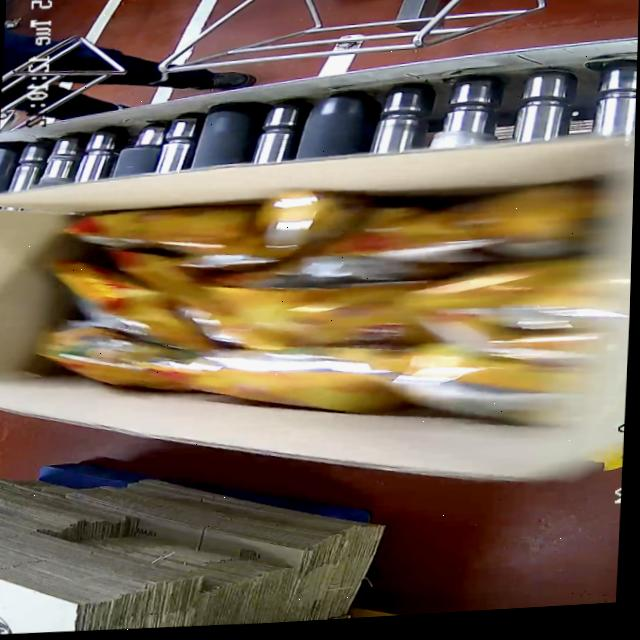FRENCH_CHEESE: (39, 178, 607, 433)
